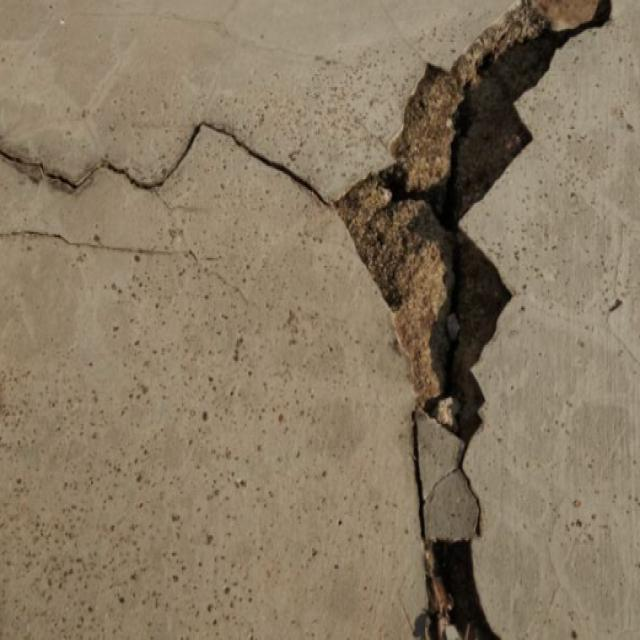branched cracks: (0, 0, 592, 639)
